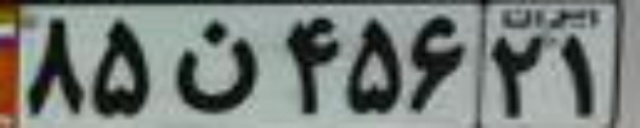1: (558, 32, 595, 116)
2: (490, 33, 544, 117)
4: (281, 16, 340, 114)
5: (345, 17, 401, 113), (93, 23, 148, 113)
6: (405, 16, 467, 113)
8: (25, 14, 84, 113)
non: (172, 18, 255, 113)
